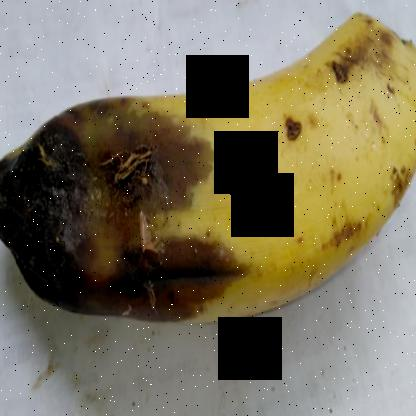rotten: (1, 89, 246, 331), (320, 9, 415, 106)
